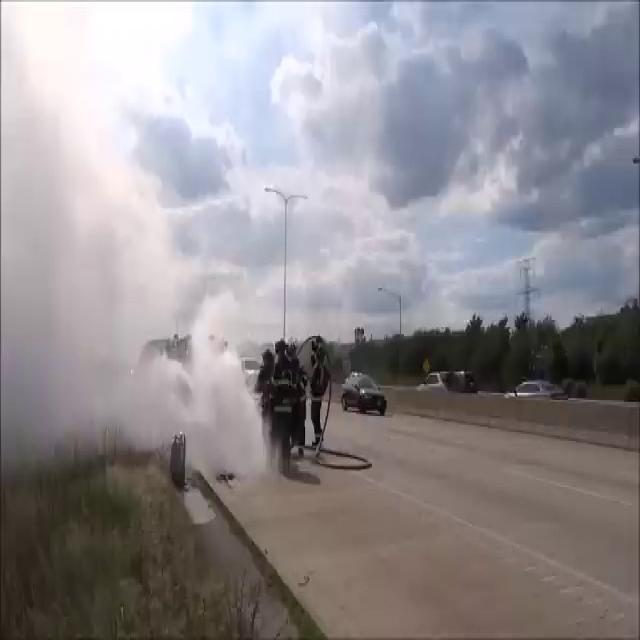Smoke: (1, 52, 270, 490)
